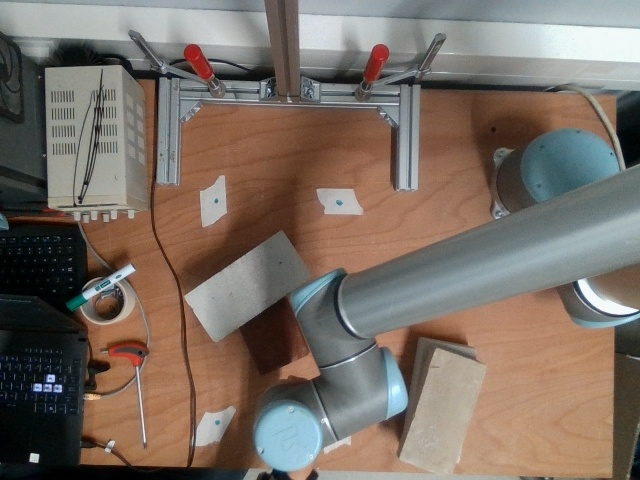brick: (399, 351, 489, 478)
